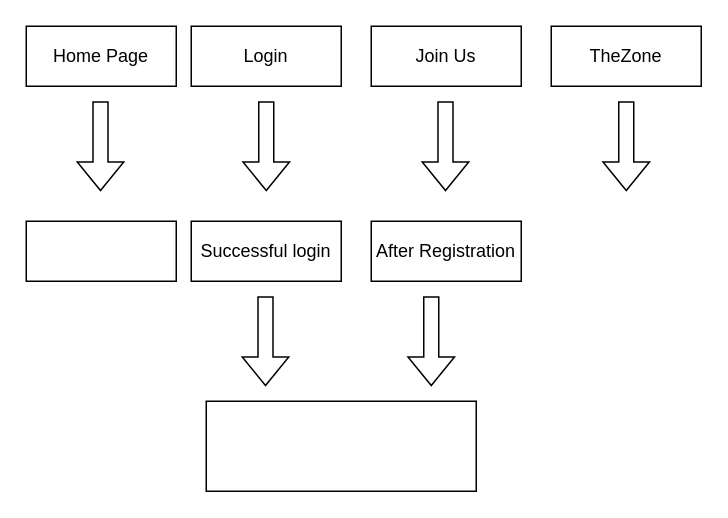
Image size: 728x518. Some labels were removed from this diagram. The box of each missing label's shape, as (x1, y1, x2, y2) in pixels:
Content: (25, 220, 176, 281)
User Account: (205, 400, 476, 491)
